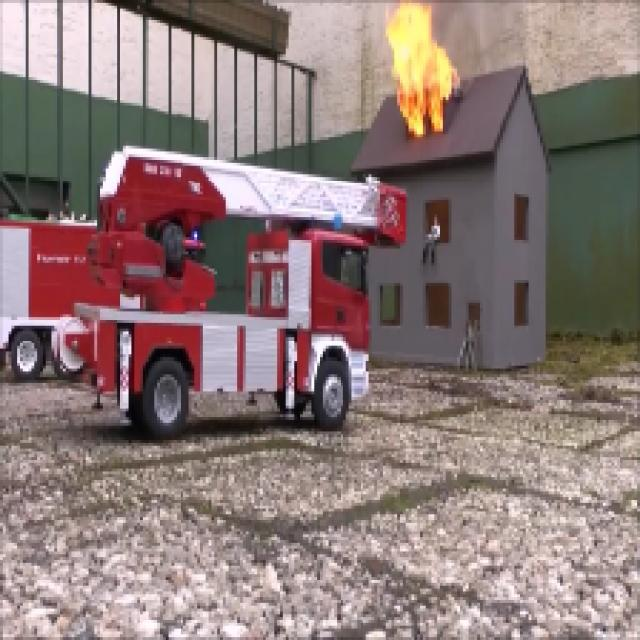fire: (372, 1, 458, 134)
